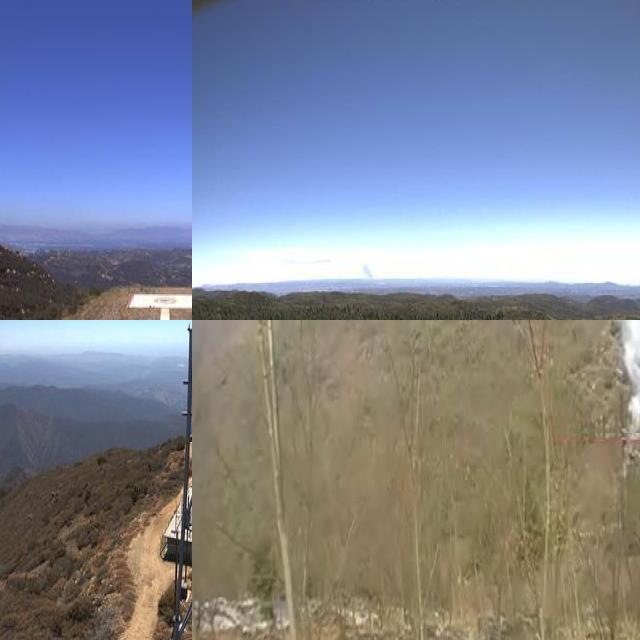smoke: (356, 255, 378, 283)
